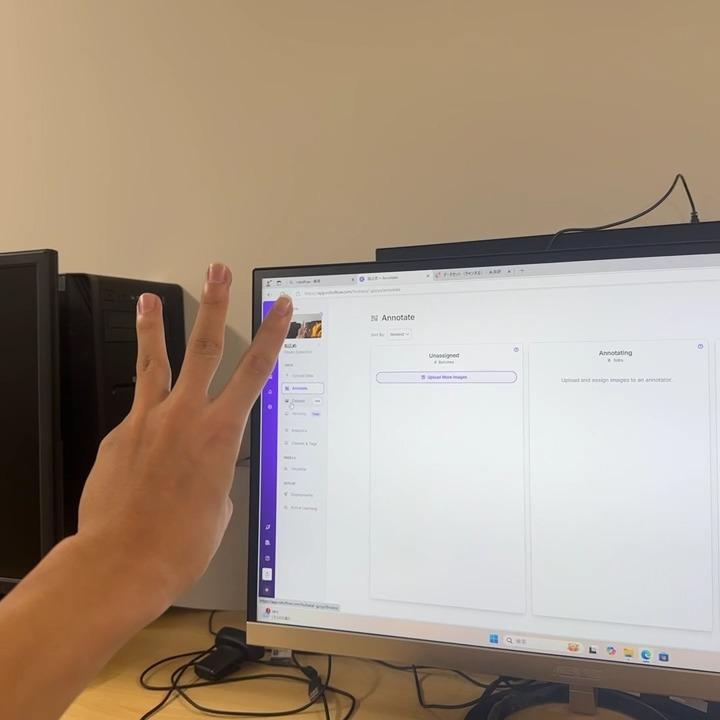without_gloves: (73, 217, 320, 583)
